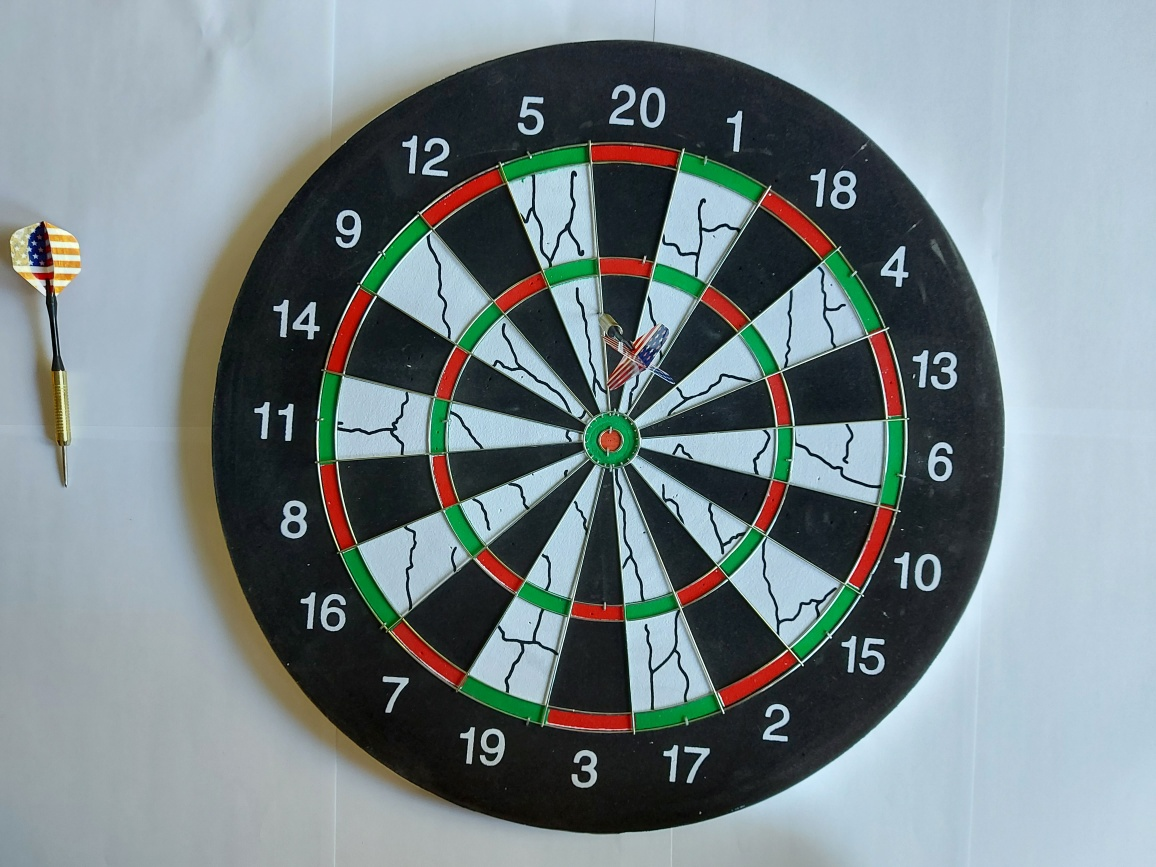Dart: (573, 283, 685, 409)
